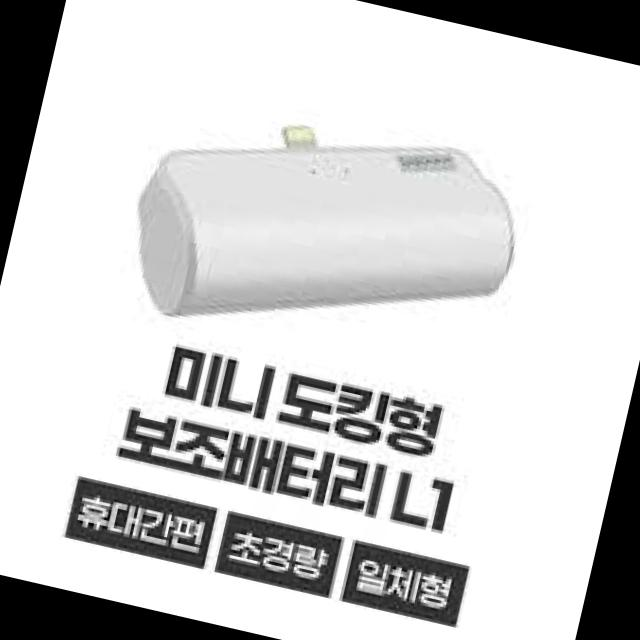portable-charger: (117, 76, 538, 390)
